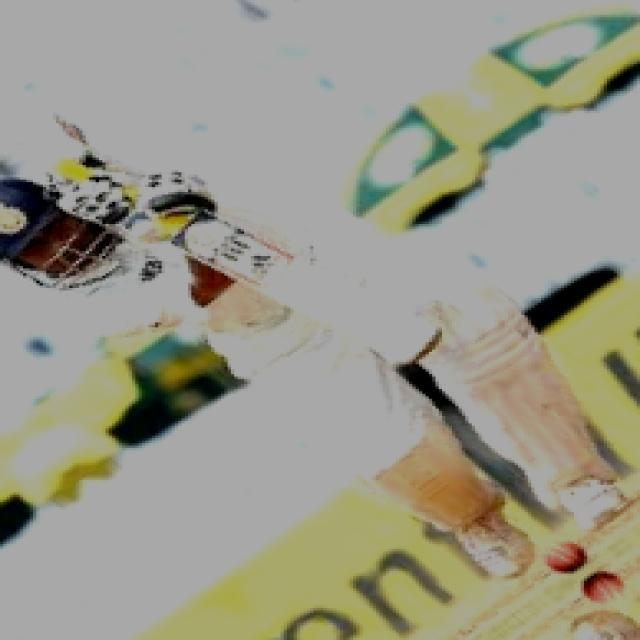bat: (155, 206, 463, 379)
toe: (396, 326, 456, 373)
